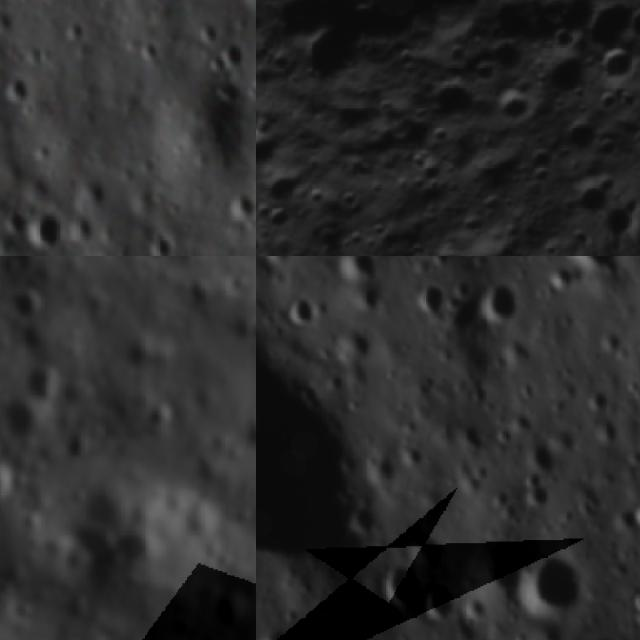crater: (256, 355, 372, 563), (303, 0, 538, 50), (283, 8, 376, 101), (513, 544, 595, 630), (524, 34, 604, 112), (256, 0, 340, 55), (572, 0, 640, 65), (416, 69, 480, 134), (552, 168, 616, 232), (548, 110, 608, 170), (256, 158, 311, 220), (482, 79, 540, 137), (587, 36, 640, 96), (256, 111, 293, 191), (475, 277, 524, 331), (453, 227, 540, 256), (481, 535, 521, 594), (28, 205, 72, 256), (386, 554, 422, 606), (23, 362, 65, 406), (0, 397, 41, 442), (412, 274, 449, 322), (6, 288, 47, 331), (223, 184, 256, 227), (213, 78, 251, 115), (336, 256, 382, 285), (287, 292, 321, 327), (617, 0, 640, 51), (568, 256, 629, 275), (1, 70, 32, 106), (428, 581, 457, 618), (144, 223, 176, 256), (0, 459, 17, 519), (205, 49, 233, 78), (546, 263, 578, 288), (420, 239, 467, 256), (62, 20, 88, 50), (353, 286, 385, 310), (136, 38, 160, 68), (198, 18, 222, 45), (0, 8, 20, 40)
